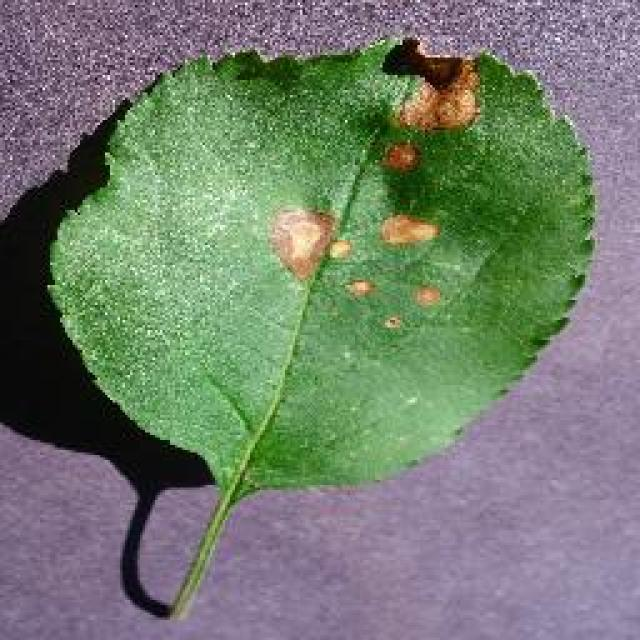apple black rot: (0, 30, 600, 618)
